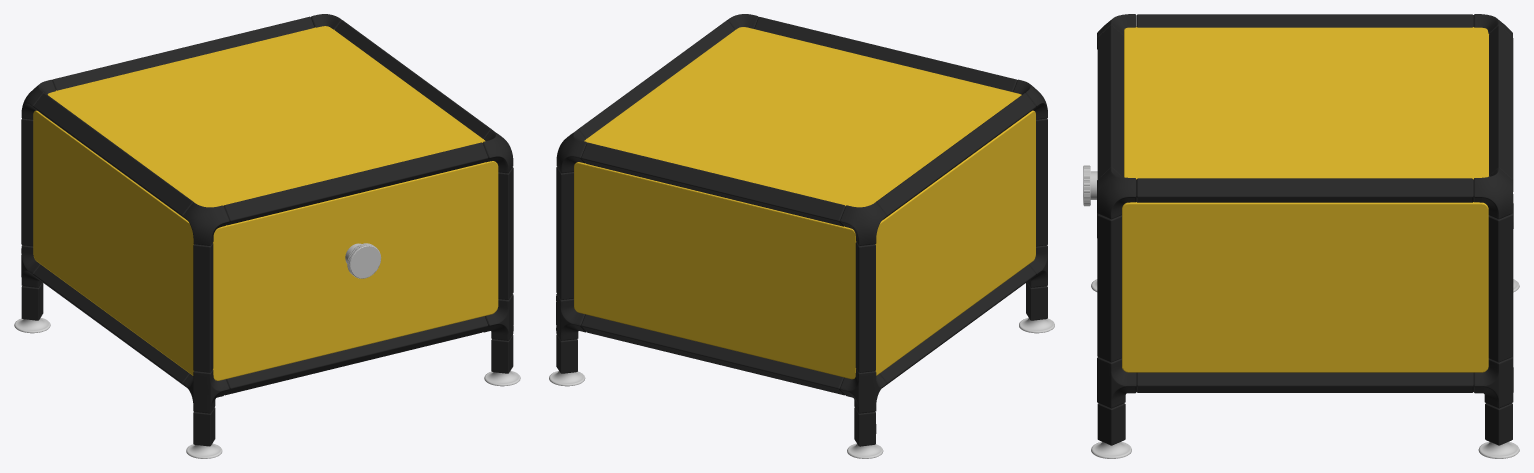
The picture shows the model from 3 angles, left to right: view 1: azimuth 30°, elevation 25°; view 2: azimuth 150°, elevation 25°; view 3: azimuth 270°, elevation 25°; orthographic projection. The views are drawn at different scales.
Visible parts, largest first — view 1: 329x329x154; view 2: 329x329x154; view 3: 329x329x154.
Part boxes in pixels (x1,y1,x2,y2): 329x329x154: (14,14,520,458); 329x329x154: (549,14,1054,458); 329x329x154: (1083,14,1519,458).
Bounding box in the file's own units: 0.4188 × 0.2933 × 0.4257.
